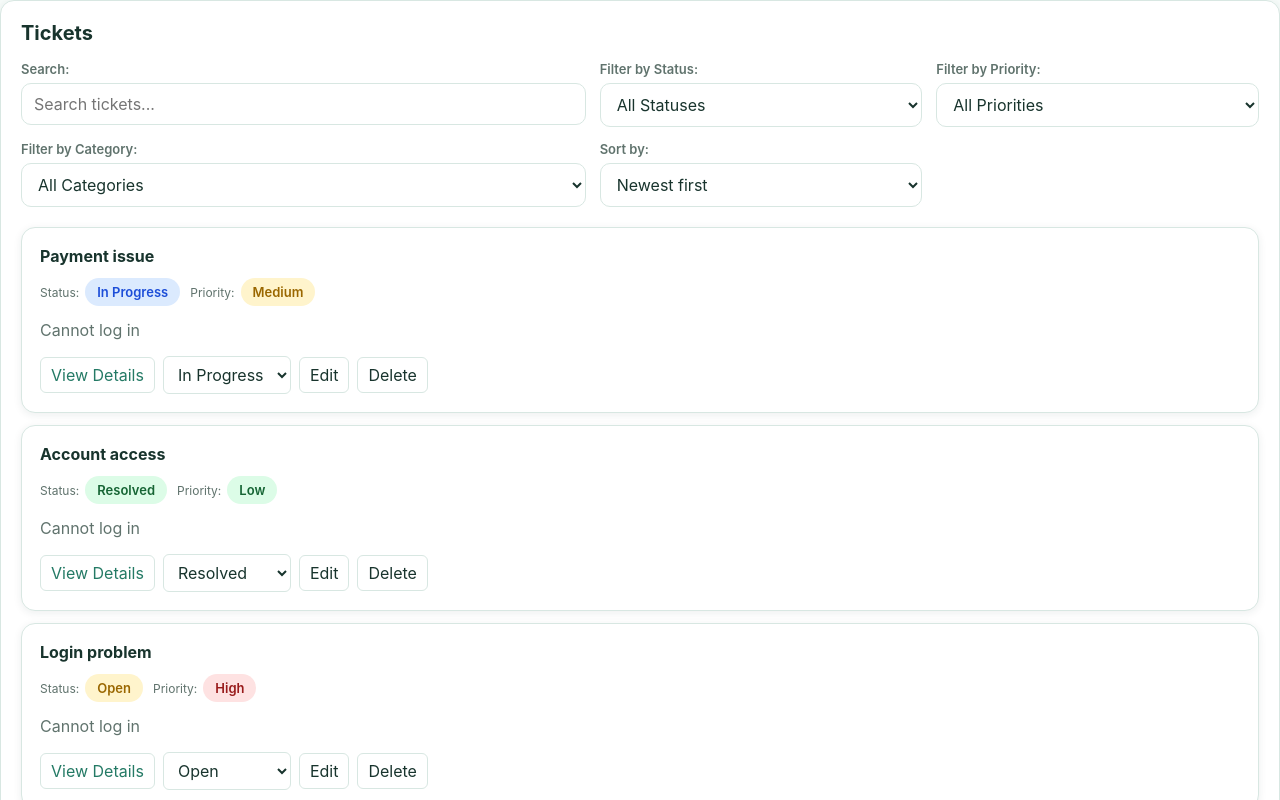
Test: TicketList › filters tickets by status
Select "In Progress" in the dropdown labelled "Filter by Status:": (761, 105) [600,83,922,127]
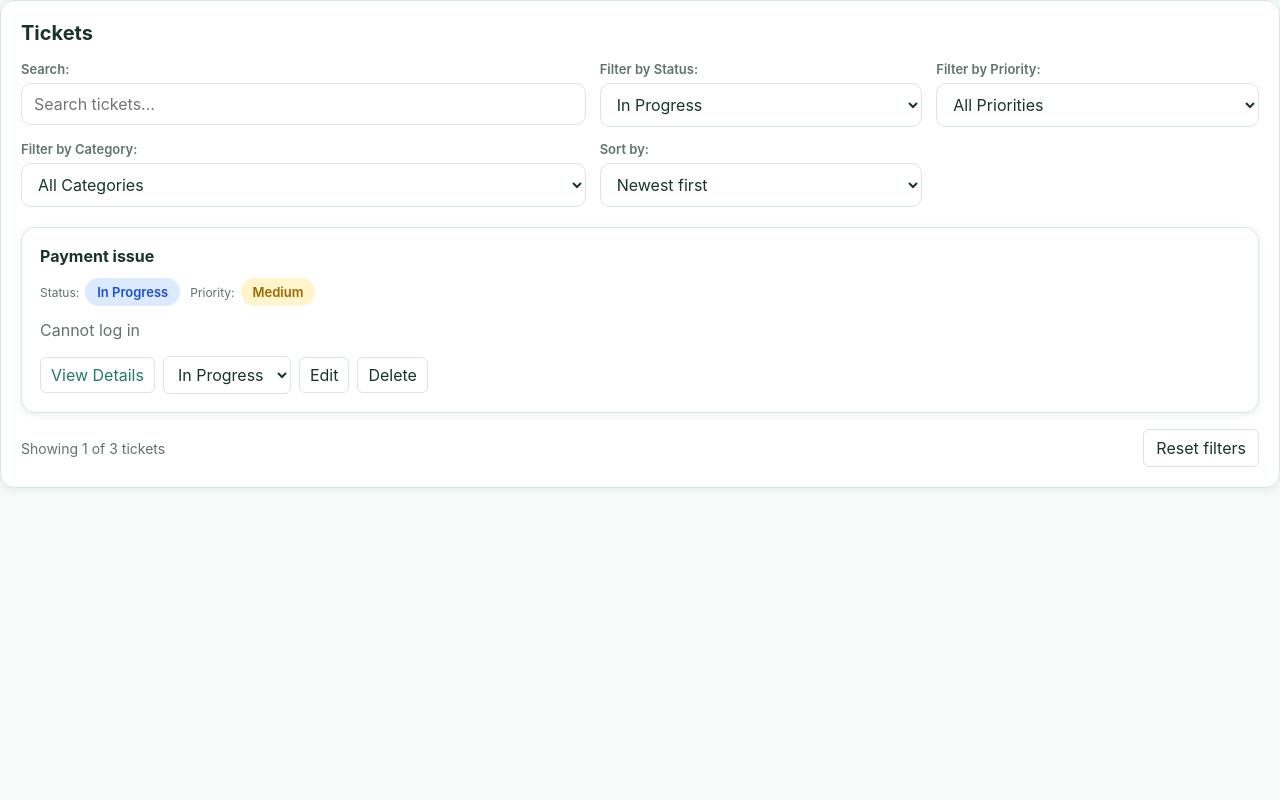
Expected: the heading "Payment issue" is shown, [40,246,154,266]
Expected: the heading "Login problem" is gone
Expected: the text "Showing 1 of 3 tickets" is shown, [21,440,165,456]
